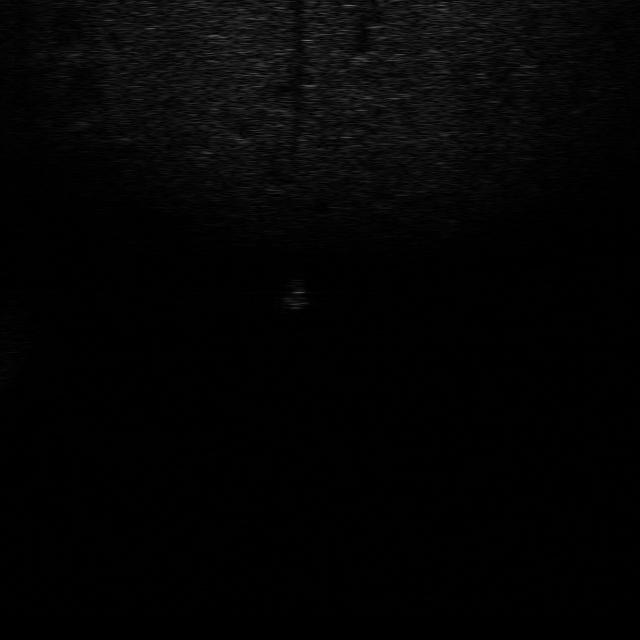human body: (272, 278, 308, 314)
